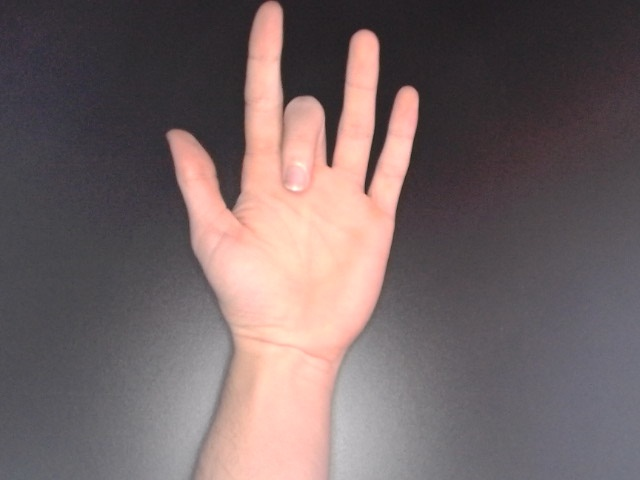reset: (159, 1, 428, 381)
